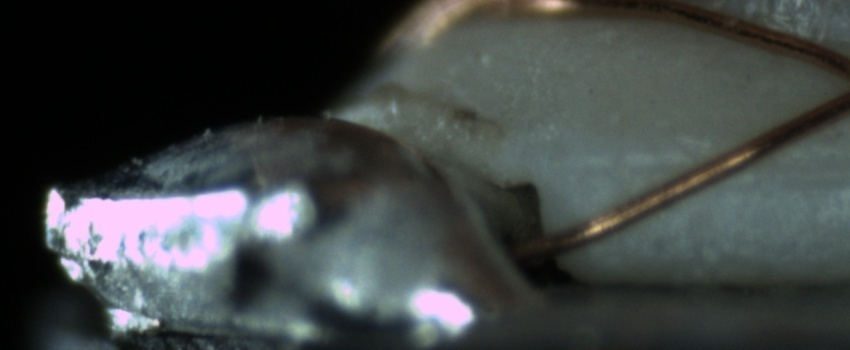CL: (833, 53, 850, 113)
DL: (603, 130, 848, 203)
